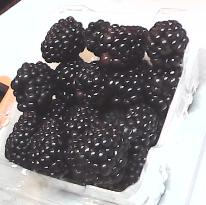berry: (68, 120, 129, 185), (28, 117, 70, 176), (99, 25, 149, 68), (12, 61, 54, 111), (147, 20, 188, 70), (5, 111, 40, 168), (41, 16, 83, 62), (109, 61, 149, 108), (72, 61, 108, 107), (146, 68, 183, 112), (116, 144, 148, 190), (54, 57, 85, 104), (126, 104, 157, 146), (64, 106, 100, 137), (84, 21, 110, 54)
